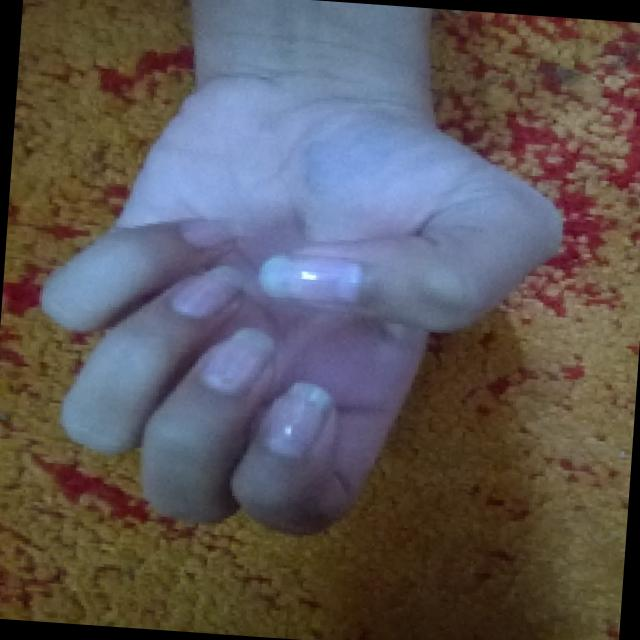Nail: (260, 382, 330, 456), (259, 254, 362, 304), (198, 327, 273, 393), (170, 265, 242, 317), (179, 217, 236, 244)
